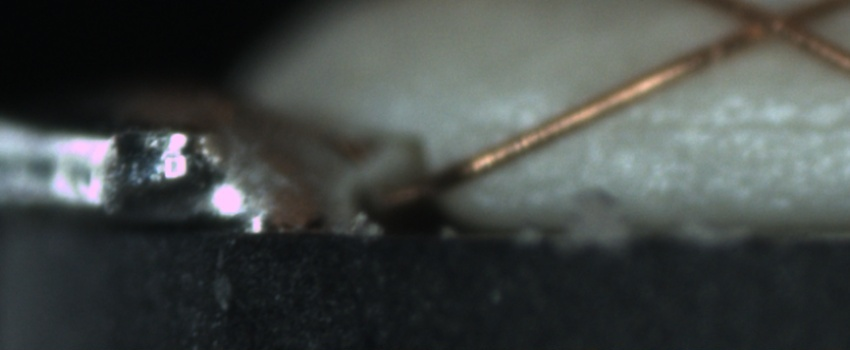CL: (705, 3, 834, 56)
DL: (613, 92, 850, 156)
